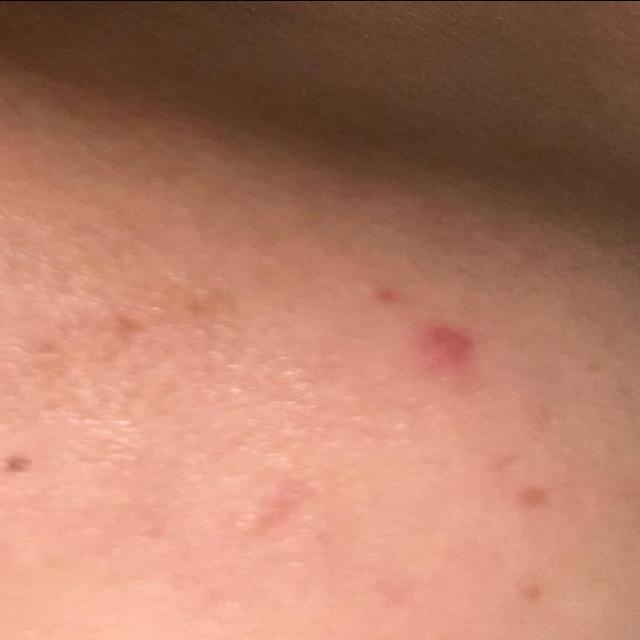papule: (369, 292, 529, 413), (195, 438, 335, 554)
